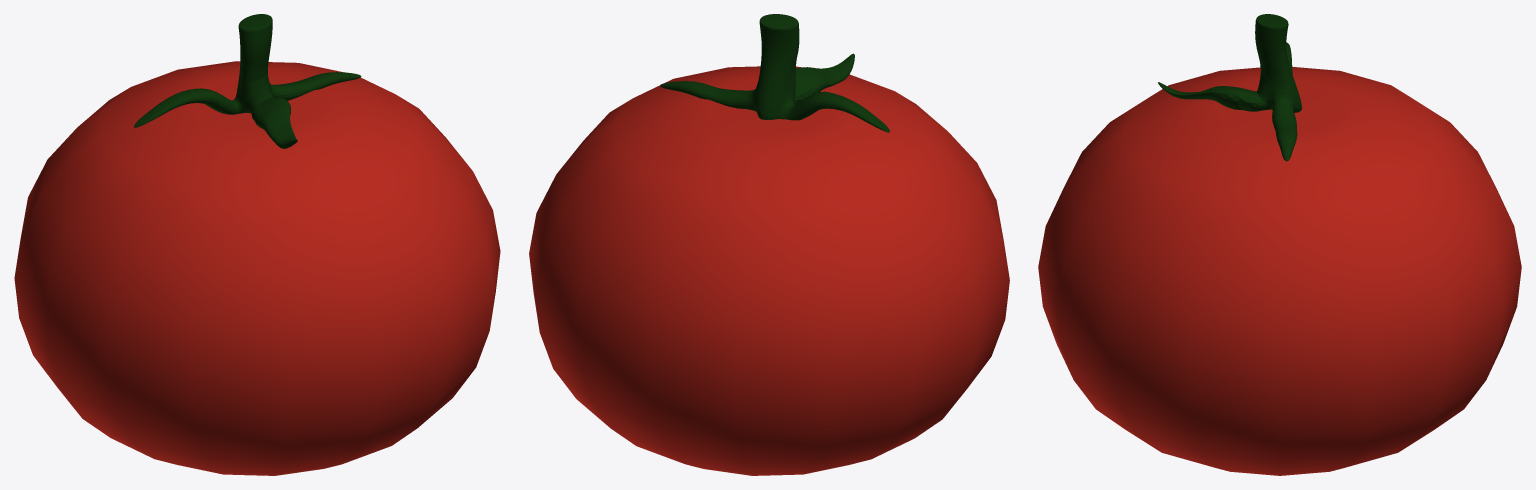
File: tomato.fbx
3 views of the same model, side by side, from view 1: azimuth 30°, elevation 25°; view 2: azimuth 150°, elevation 25°; view 3: azimuth 270°, elevation 25° (orthographic).
Visible parts, largest first — view 1: whole_tomato; view 2: whole_tomato; view 3: whole_tomato.
Boxes of the visible parts, left/top/right/bottom form: whole_tomato: left=14, top=14, right=500, bottom=475; whole_tomato: left=529, top=14, right=1009, bottom=475; whole_tomato: left=1038, top=14, right=1521, bottom=475.
Size of the model in its own units: 8.12 by 7.75 by 8.12.
